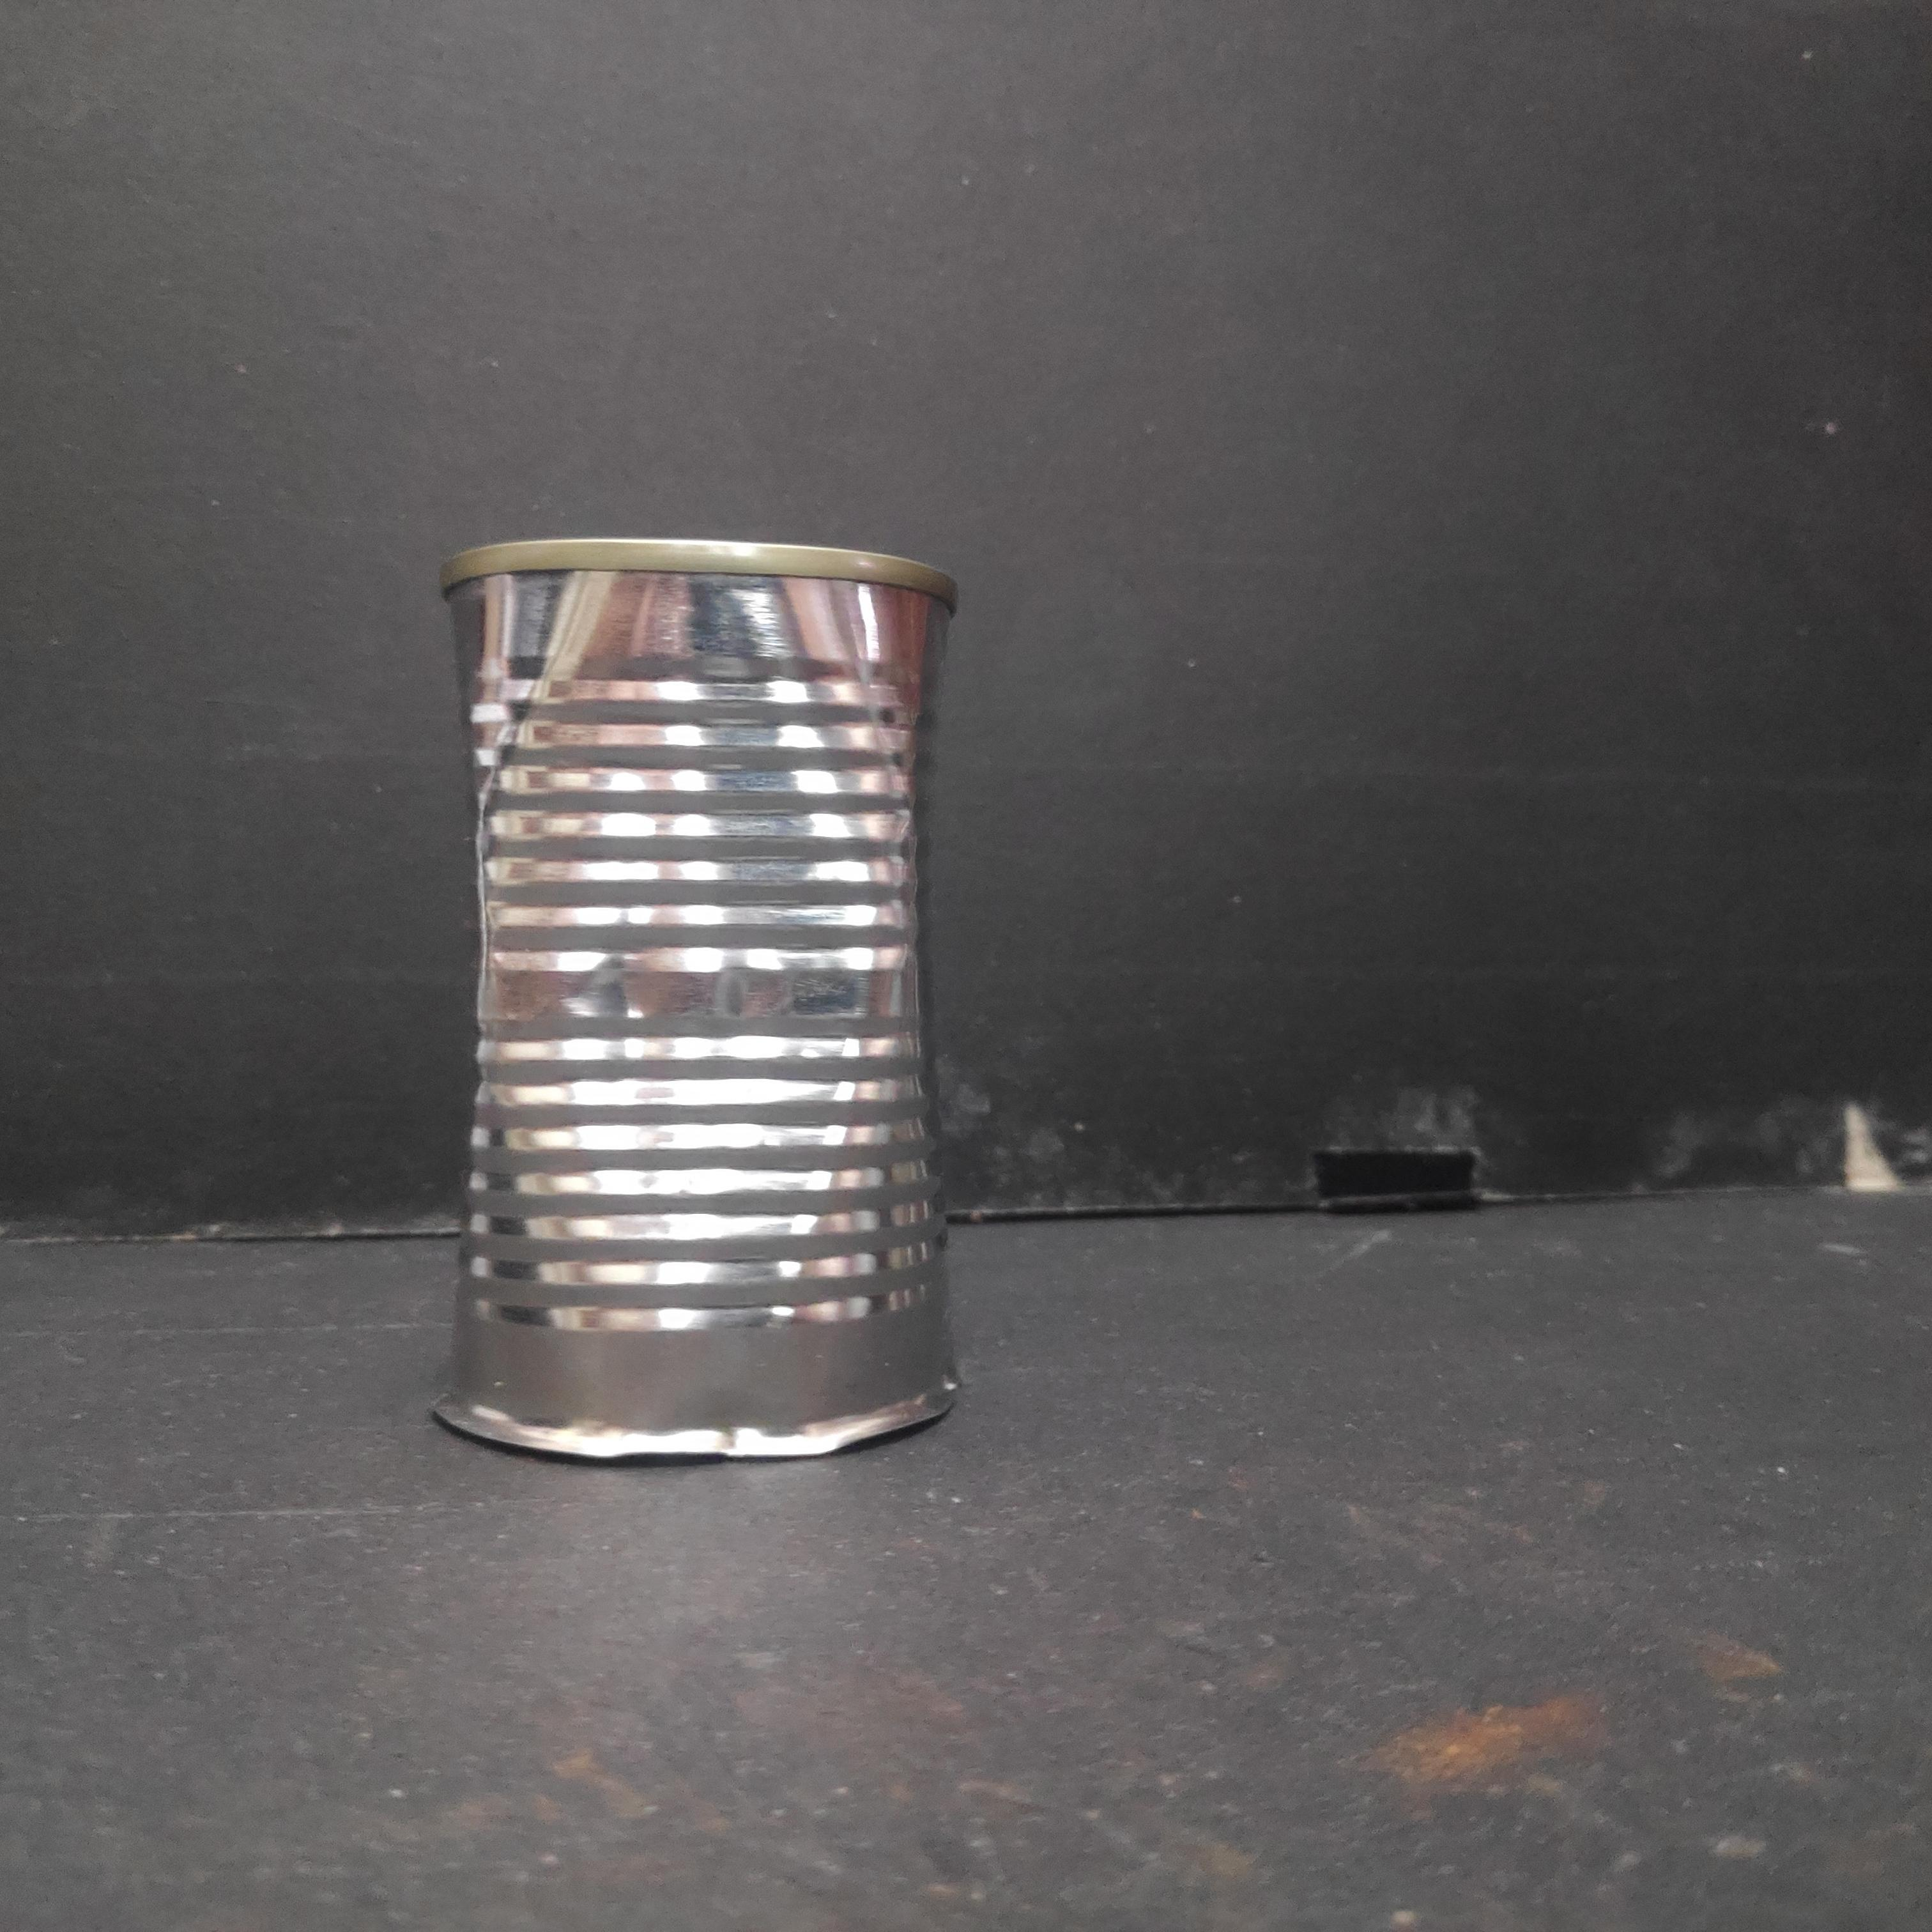Minor Defect: (430, 522, 975, 1479)
